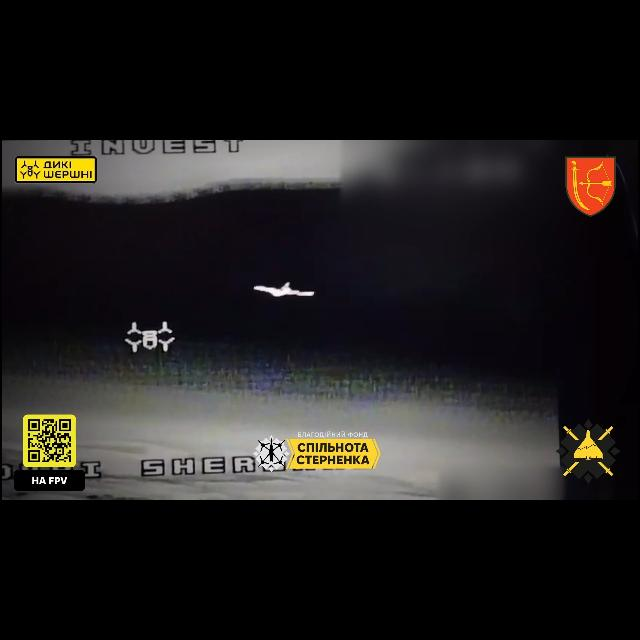Gerbera: (253, 280, 315, 298)
